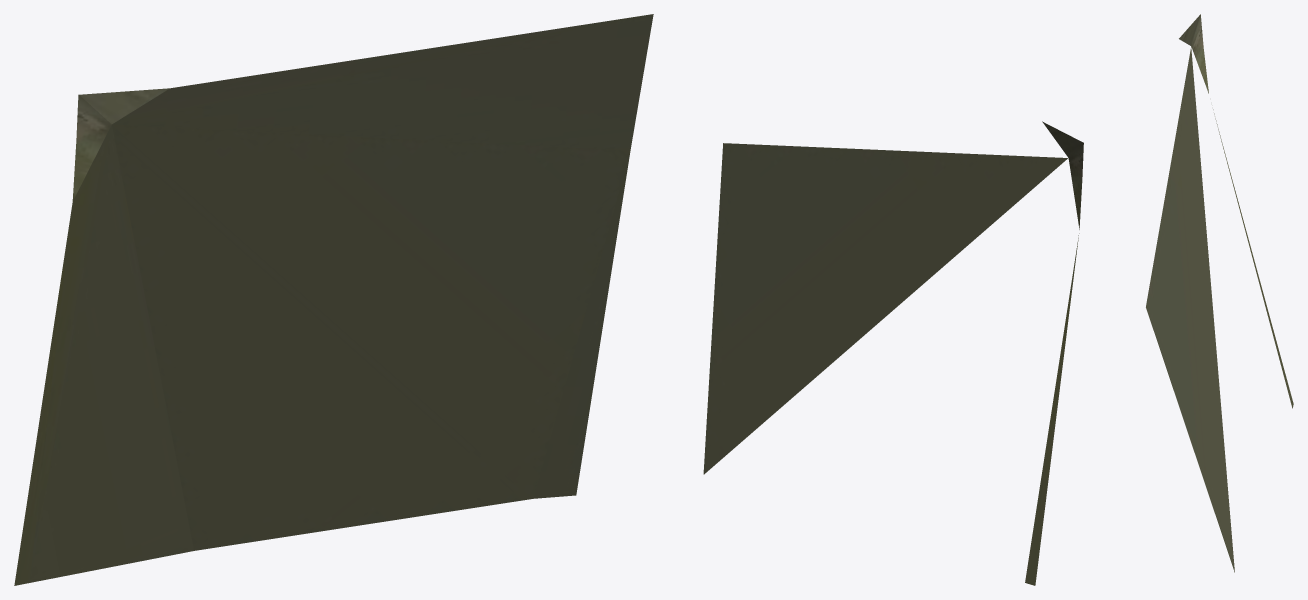
3 views of the same model, side by side, from view 1: azimuth 30°, elevation 25°; view 2: azimuth 150°, elevation 25°; view 3: azimuth 270°, elevation 25° (orthographic). The views are drawn at different scales.
Size of the model in its own units: 2.95 by 2.95 by 1.24.
2 materials, 2 textured.
